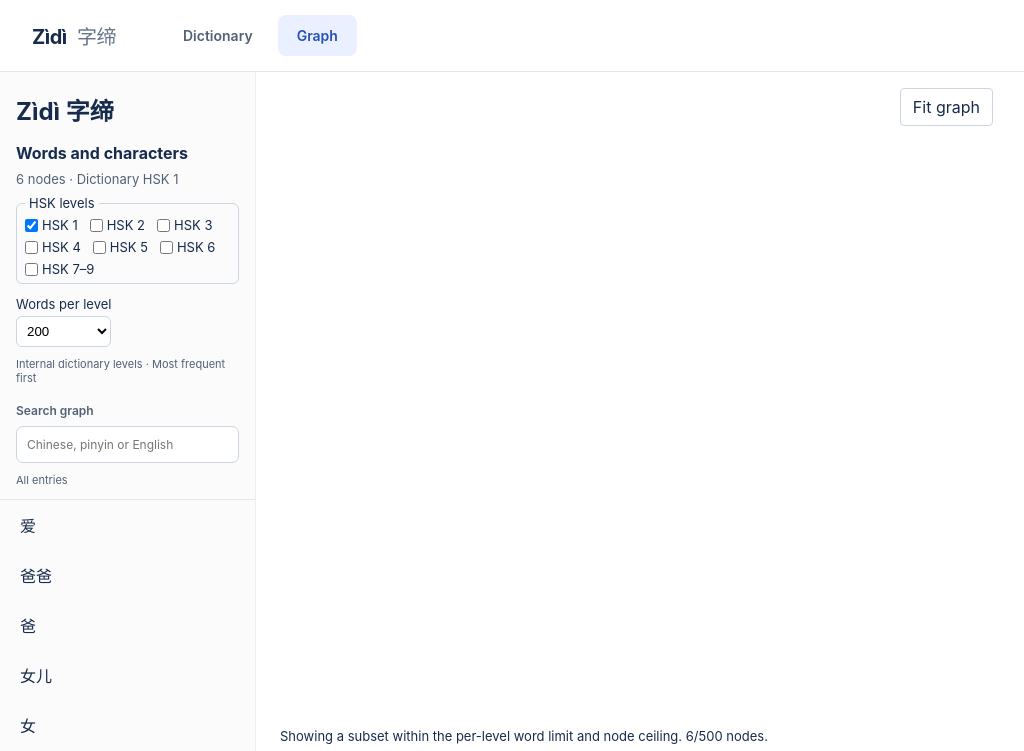
it: sidebar pinyin filtering supports umlauts and retains its query across feature tabs
expect the button "女儿" is shown: met, box [0, 650, 255, 700]
Type "nǚ ér" into the search field labelled "Search graph" at (128, 444), box [16, 426, 239, 463]
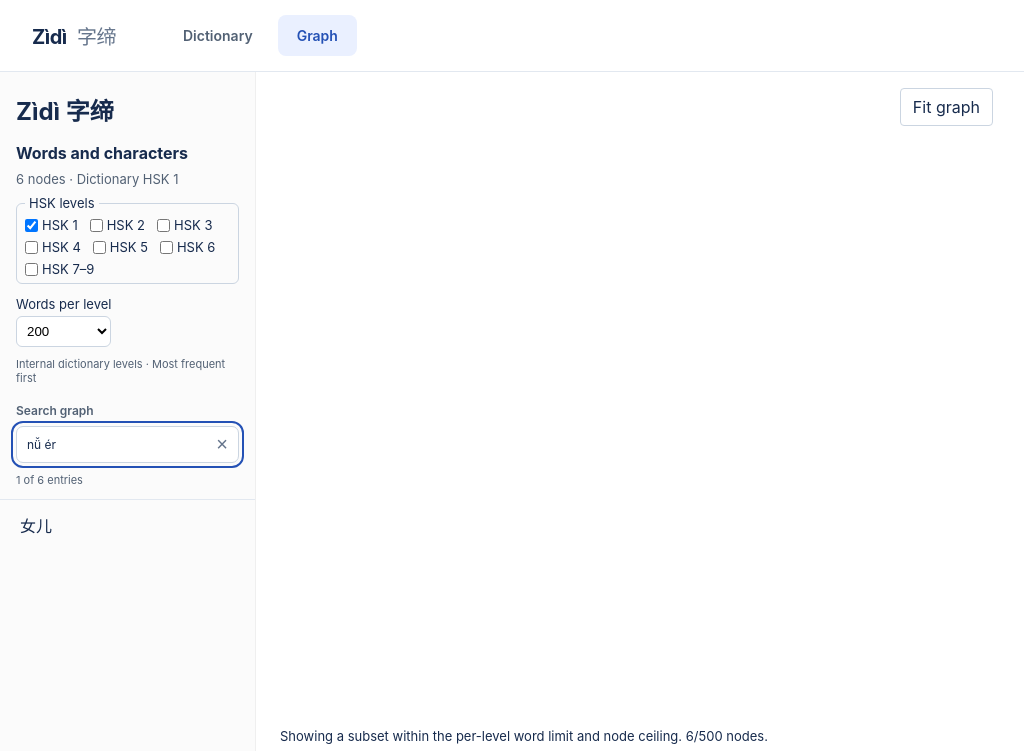
expect the button "女儿" is shown: met, box [0, 500, 255, 550]
Replace the text in the search field labelled "Search graph" with "nv er" at (128, 444), box [16, 426, 239, 463]
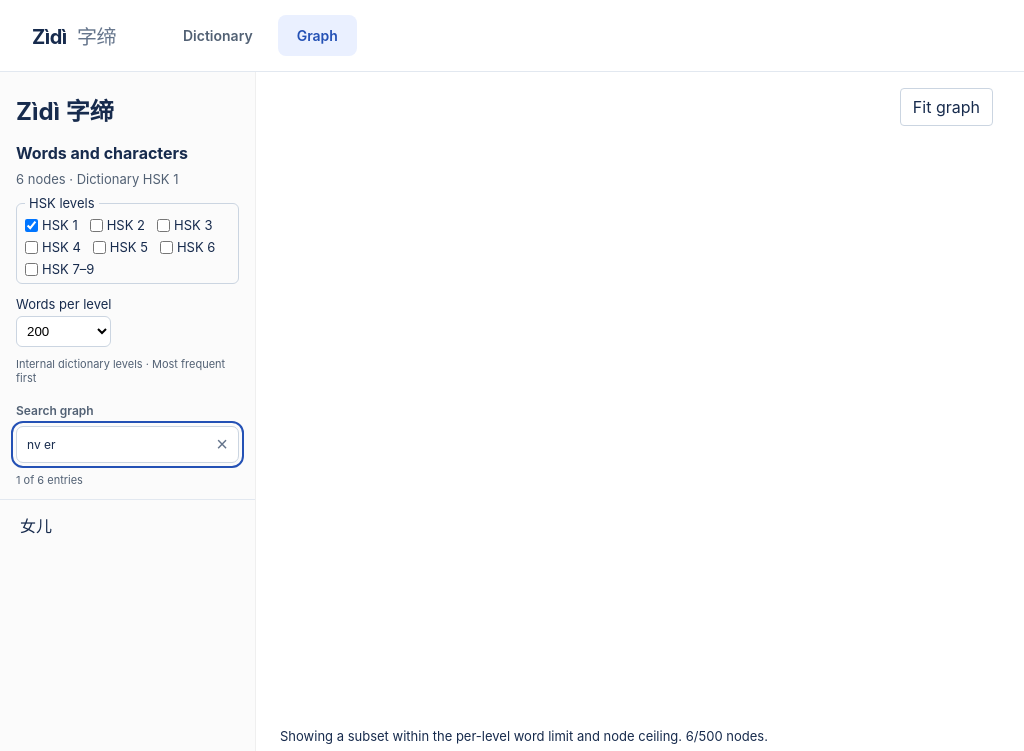
expect the button "女儿" is shown: met, box [0, 500, 255, 550]
Replace the text in the search field labelled "Search graph" with "nü er" at (128, 444), box [16, 426, 239, 463]
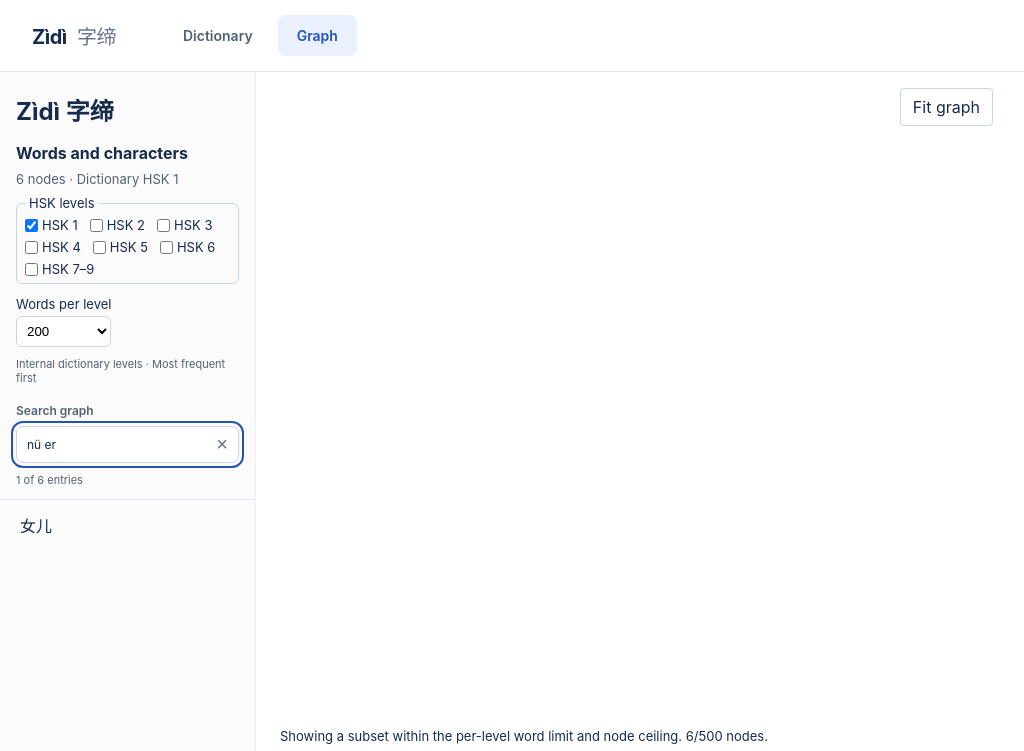
expect the button "女儿" is shown: met, box [0, 500, 255, 550]
Replace the text in the search field labelled "Search graph" with "nv3 er2" at (128, 444), box [16, 426, 239, 463]
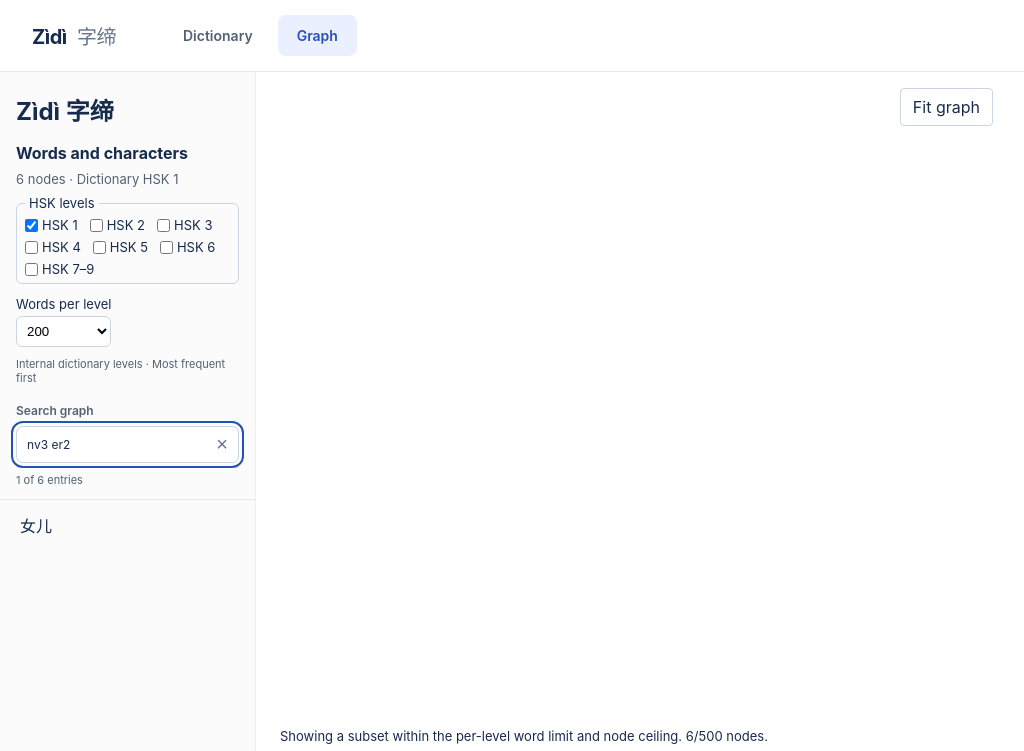
expect the button "女儿" is shown: met, box [0, 500, 255, 550]
Click the tab "Dictionary" at (218, 36), box [164, 15, 272, 56]
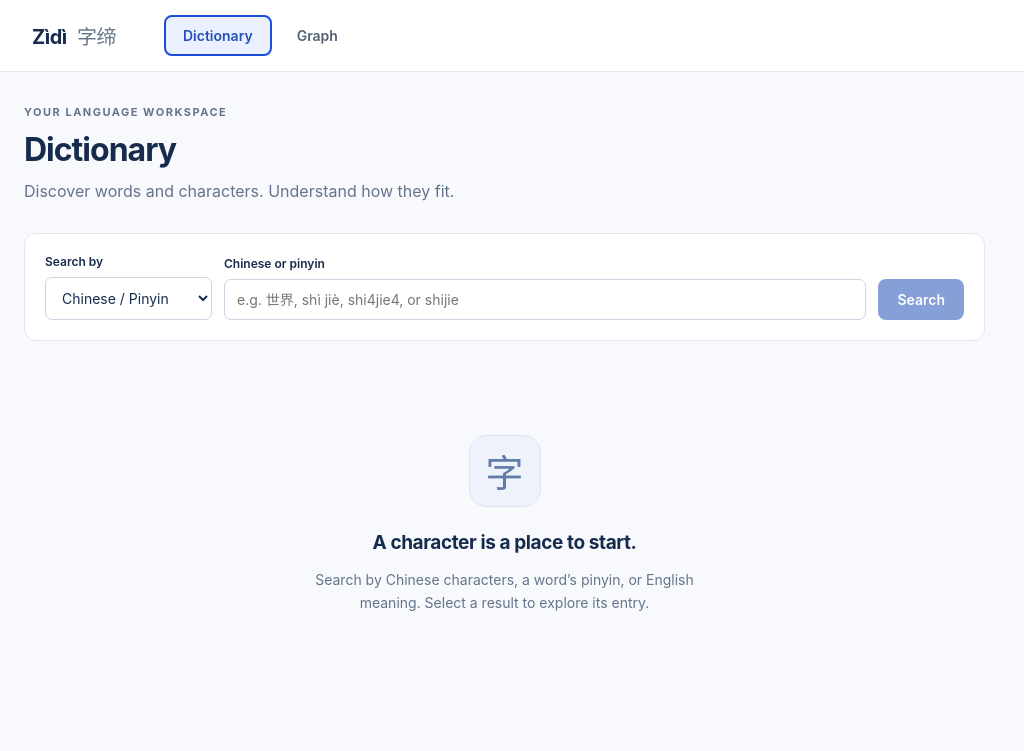
Click the tab "Graph" at (317, 36), box [278, 15, 357, 56]
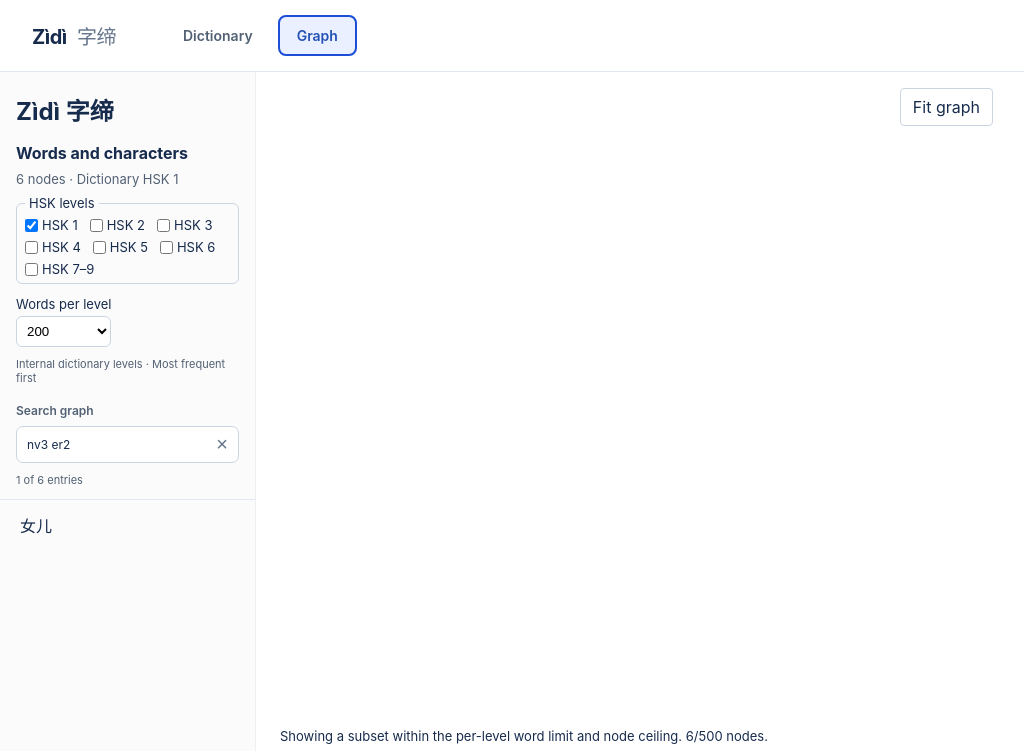
expect the button "女儿" is shown: met, box [0, 500, 255, 550]
